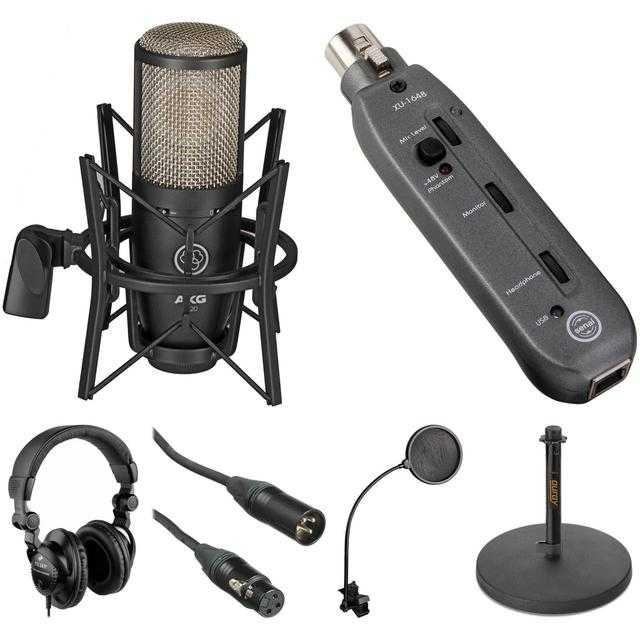microphone: (125, 27, 253, 371)
